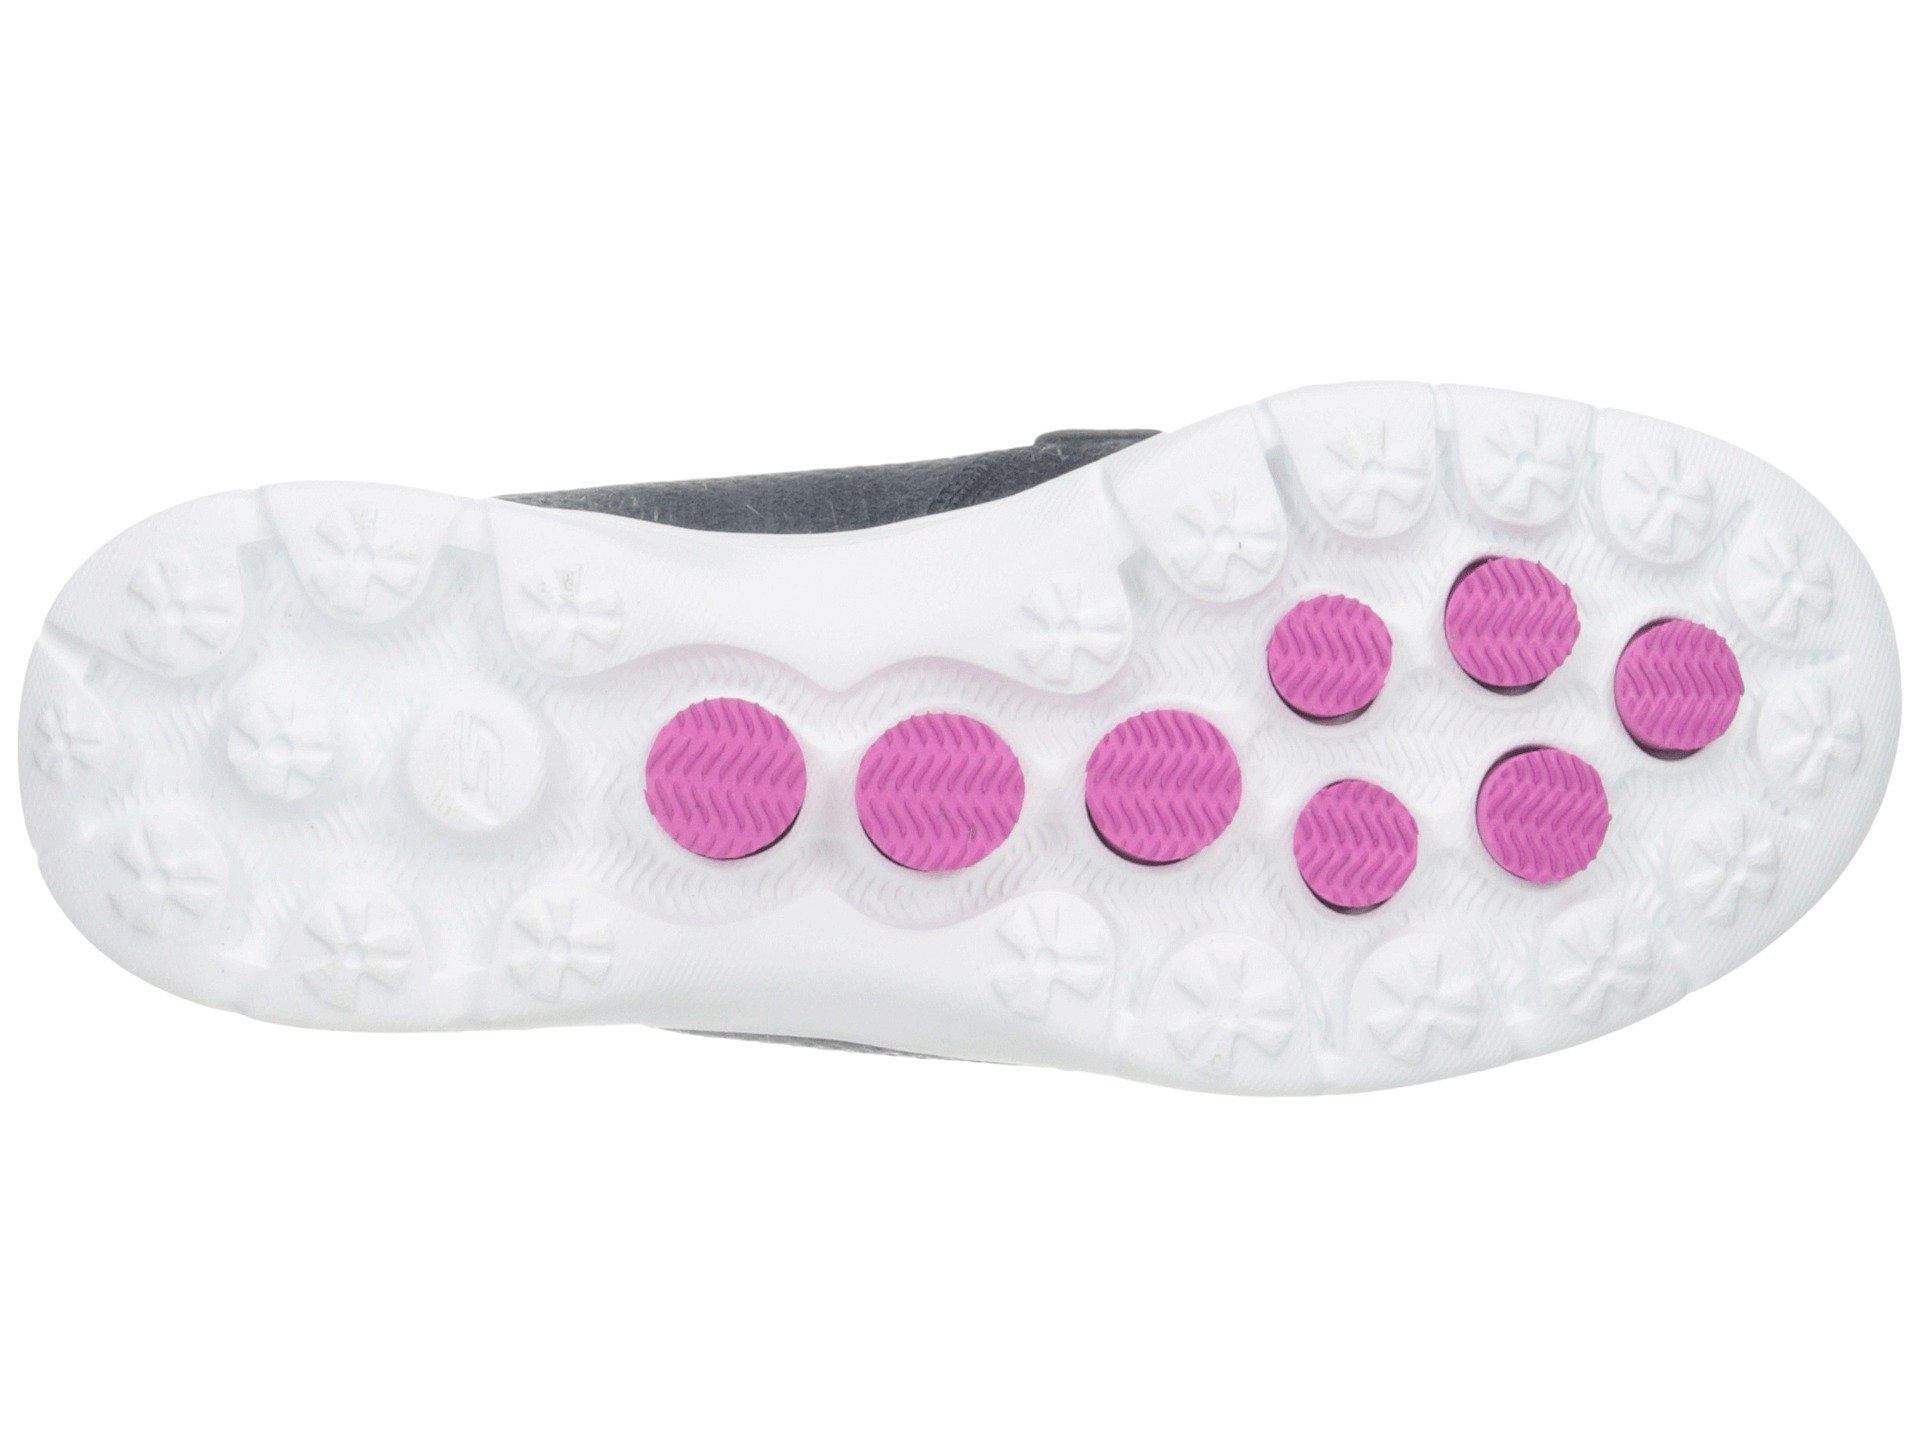chevron: (215, 638, 810, 874), (1246, 557, 1631, 906)
circle: (215, 638, 810, 874), (1246, 557, 1631, 906), (1300, 392, 1619, 543)
line: (215, 638, 810, 874), (1246, 557, 1631, 906), (1300, 392, 1619, 543)
star: (215, 638, 810, 874), (1300, 392, 1619, 543)
